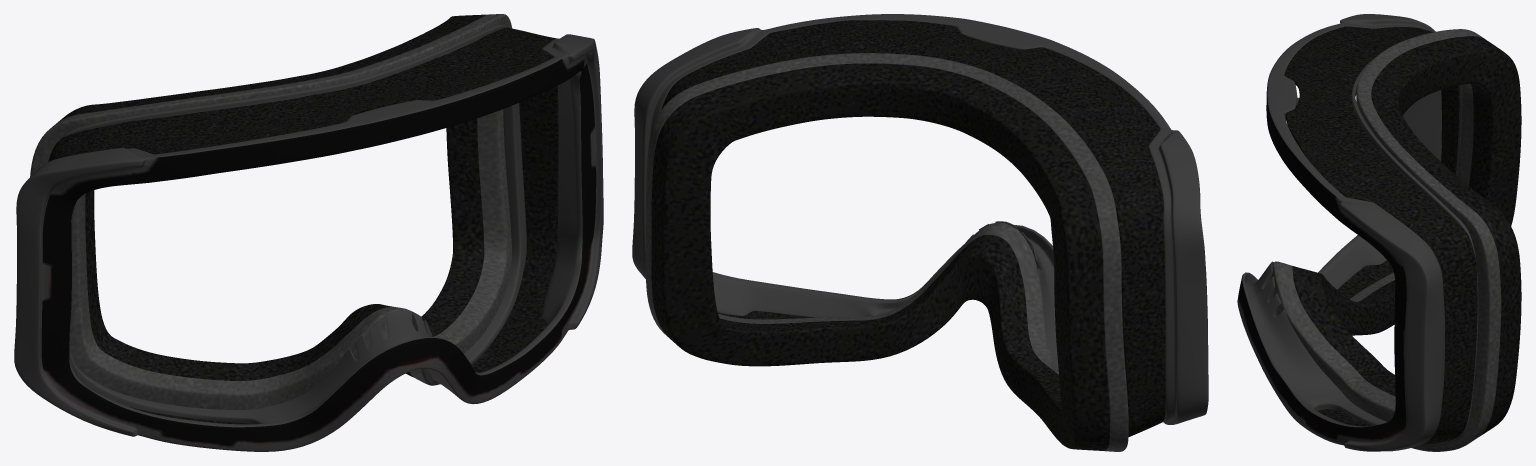
The model's file is FRAME_Kepler_MOKP006_002.glb.
The picture shows the model from 3 angles, left to right: view 1: azimuth 30°, elevation 25°; view 2: azimuth 150°, elevation 25°; view 3: azimuth 270°, elevation 25°; orthographic projection. The views are drawn at different scales.
Parts seen in each view (by area): view 1: Full_rim_geometry, Frame-Add_frame-02_geometry_geometry, Frame-Add_frame-01_geometry_geometry; view 2: Frame-Add_frame-02_geometry_geometry, Frame-Add_frame-01_geometry_geometry, Full_rim_geometry; view 3: Frame-Add_frame-02_geometry_geometry, Full_rim_geometry, Frame-Add_frame-01_geometry_geometry.
Part boxes in pixels (x1,y1,x2,y2): Full_rim_geometry: (14,24,603,451); Frame-Add_frame-02_geometry_geometry: (30,14,512,409); Frame-Add_frame-01_geometry_geometry: (48,27,558,424); Frame-Add_frame-02_geometry_geometry: (645,53,1128,451); Frame-Add_frame-01_geometry_geometry: (661,20,1165,437); Full_rim_geometry: (632,14,1208,424); Frame-Add_frame-02_geometry_geometry: (1271,29,1521,451); Full_rim_geometry: (1237,14,1478,451); Frame-Add_frame-01_geometry_geometry: (1284,26,1477,443).
Bounding box in the file's own units: 0.1792 × 0.0947 × 0.0857.
Materials: 1 (1 with a texture image).
